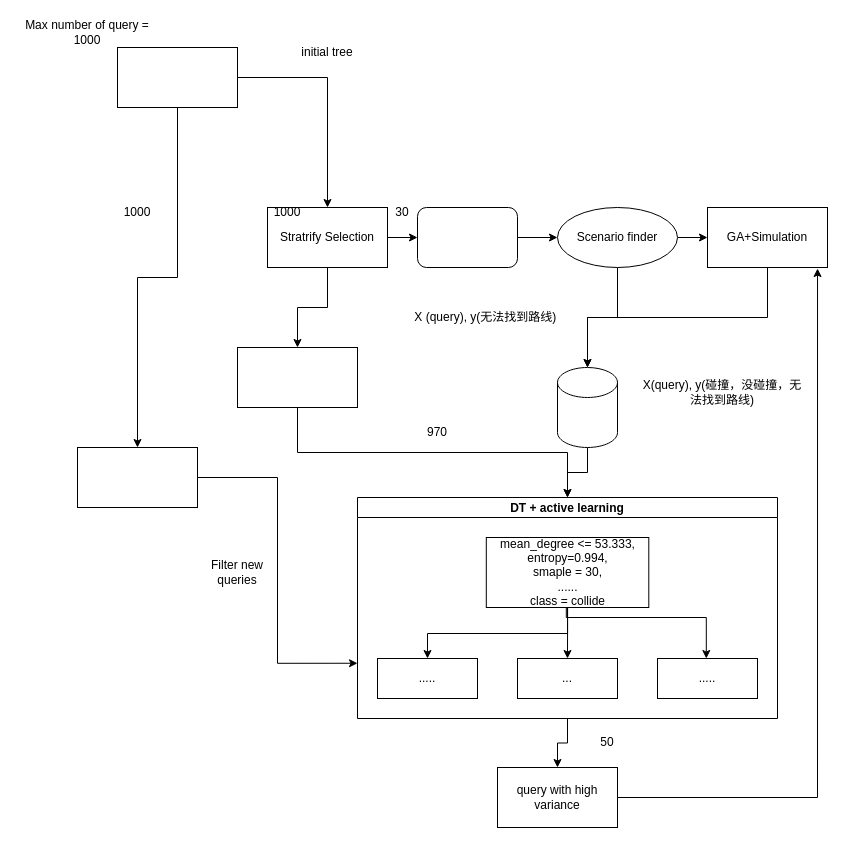
Image size: 845x845. Some labels were removed from this diagram. The centre of each missing label's shape, as x and y in pixels:
"dataset" belongs at pixel 587 407.
"Multi-process" belongs at pixel 467 237.
"query" belongs at pixel 137 477.
"Query Generator" belongs at pixel 177 77.
"query store" belongs at pixel 297 377.
